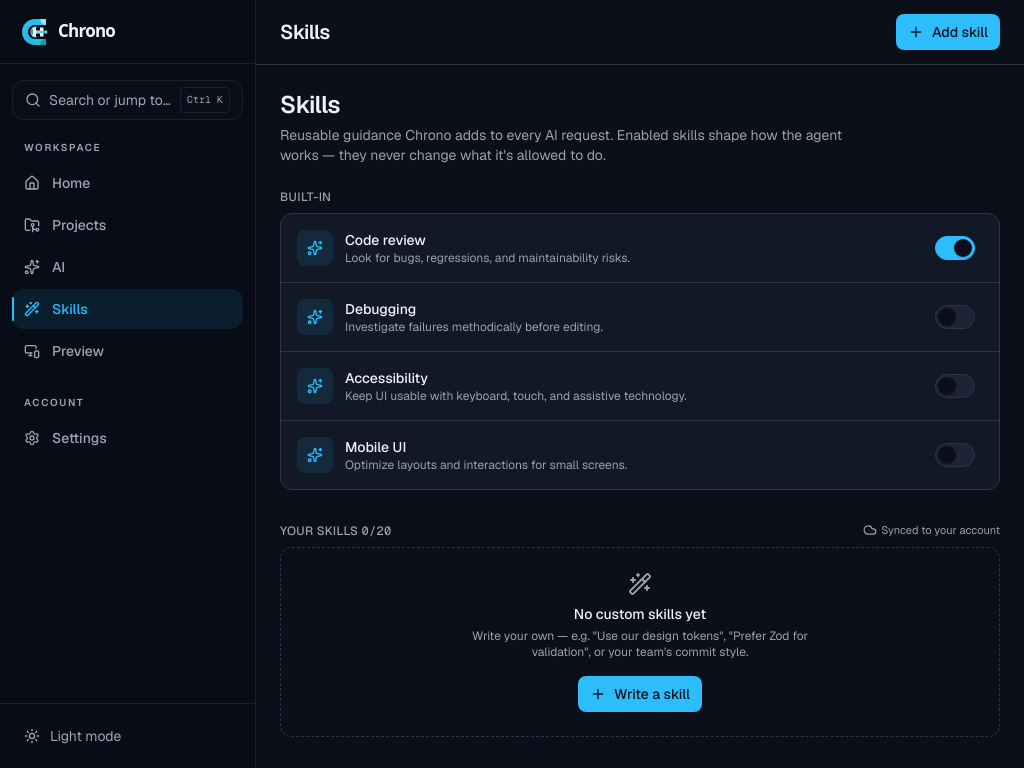
Scenario: Skills page › reverts and explains when saving fails
This screenshot has width=1024, height=768.
Expected: the element with test id "text-skills-storage" is shown, top-left (863, 522), bottom-right (1000, 538)
What coordinates should you click on to do the following:
click the switch with test id "switch-skill-mobile-ui"
I would click on:
 (955, 455)
Its box is top-left (927, 433), bottom-right (983, 477).
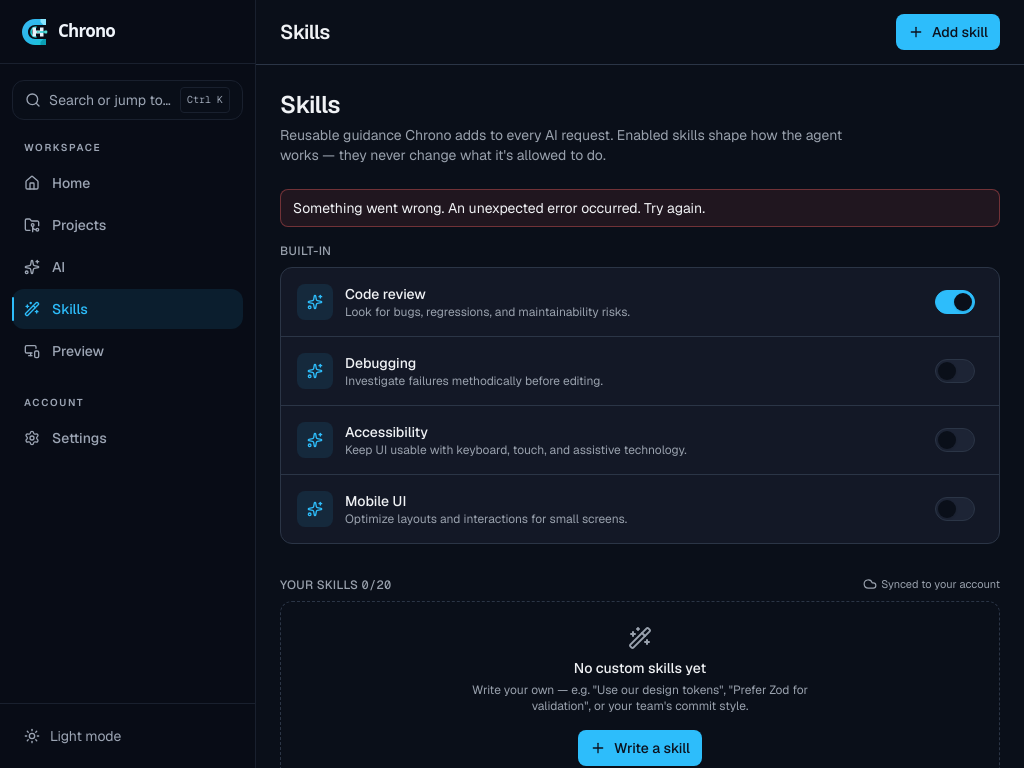
Expected: the text with test id "text-skills-error" is shown, top-left (280, 189), bottom-right (1000, 227)
